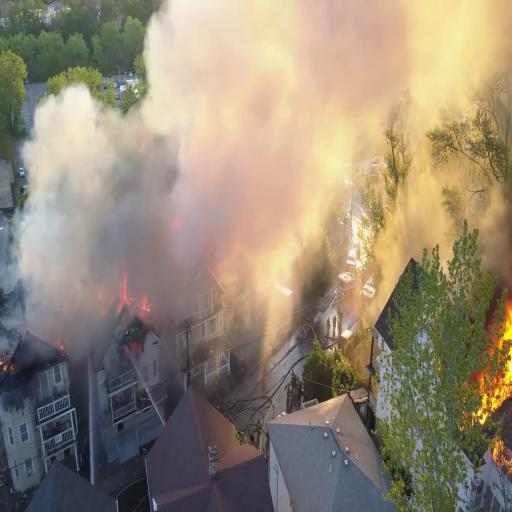fire: (471, 287, 512, 433)
smoke: (36, 104, 266, 310), (178, 2, 378, 160)
